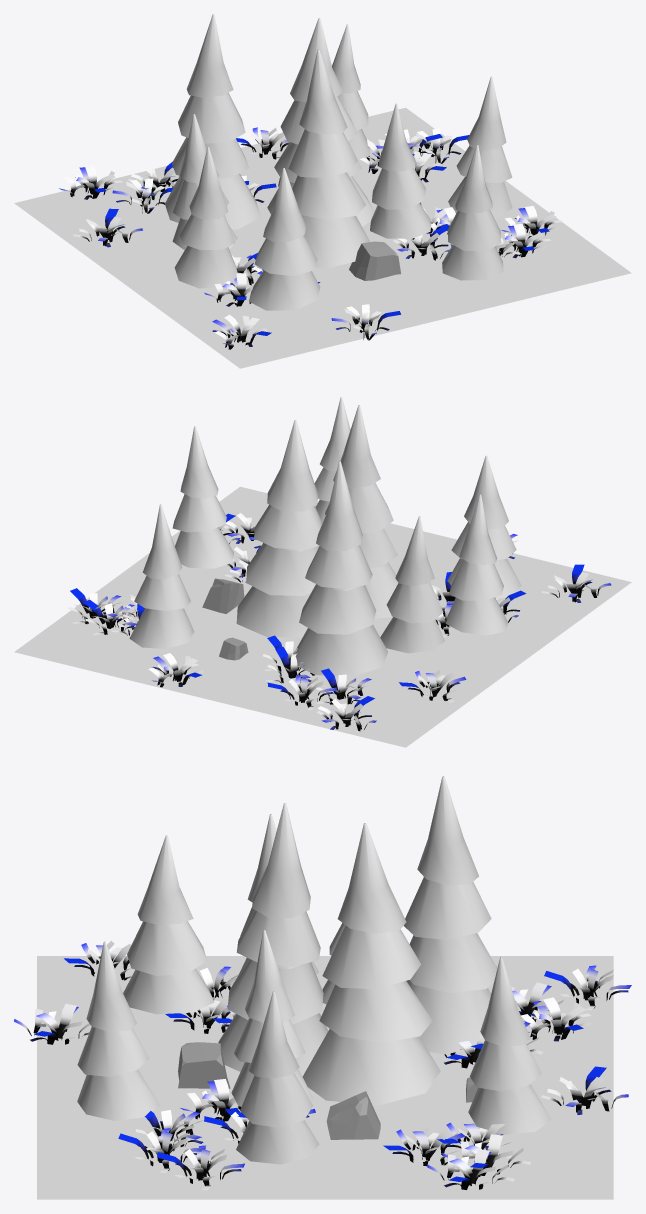
The model's file is TILE_FOREST.fbx.
3 renders of one model, top to bottom at view 1: azimuth 30°, elevation 25°; view 2: azimuth 150°, elevation 25°; view 3: azimuth 270°, elevation 25°, orthographic. The views are drawn at different scales.
Parts seen in each view (by area): view 1: Tree.010, FLOOR.007, !Env_Grass_Square_SingleSided.086, Rocks; view 2: Tree.010, FLOOR.007, !Env_Grass_Square_SingleSided.086, Rocks; view 3: Tree.010, FLOOR.007, !Env_Grass_Square_SingleSided.086, Rocks.
Boxes of the visible parts, bbox=[...] form: Tree.010: bbox=[165, 14, 512, 310]; FLOOR.007: bbox=[14, 107, 631, 368]; !Env_Grass_Square_SingleSided.086: bbox=[59, 127, 562, 349]; Rocks: bbox=[278, 177, 421, 280]; Tree.010: bbox=[129, 397, 521, 676]; FLOOR.007: bbox=[14, 486, 631, 747]; !Env_Grass_Square_SingleSided.086: bbox=[68, 513, 611, 731]; Rocks: bbox=[202, 578, 248, 660]; Tree.010: bbox=[77, 776, 551, 1164]; FLOOR.007: bbox=[37, 956, 613, 1199]; !Env_Grass_Square_SingleSided.086: bbox=[14, 940, 631, 1190]; Rocks: bbox=[178, 1042, 477, 1139].
Size of the model in its own units: 202 by 111 by 214.
